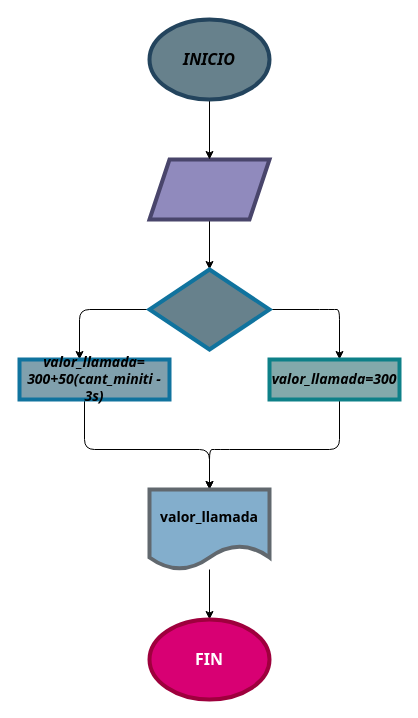
The diagram is 418 pixels wide and 718 high, and some of its shapes have lost their labels. Here are the shapes that lost their labels. From the top down, the box of each, then its label:
(147, 157, 271, 221): cant_minutis
(147, 267, 271, 351): cant_minutis <=3
